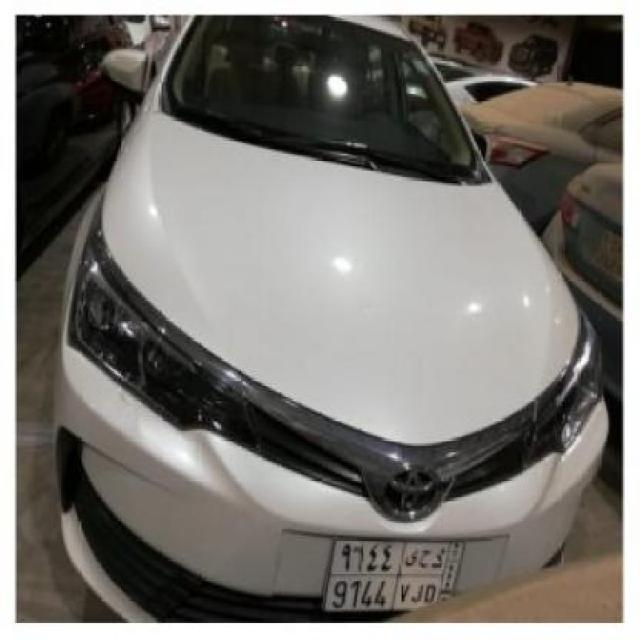license_plate: (320, 534, 468, 614)
